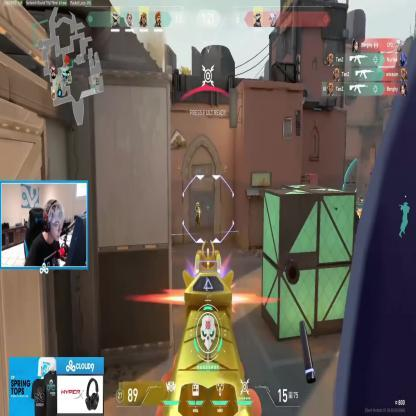enemy: (194, 202, 202, 229)
enemy_head: (196, 202, 199, 206)
